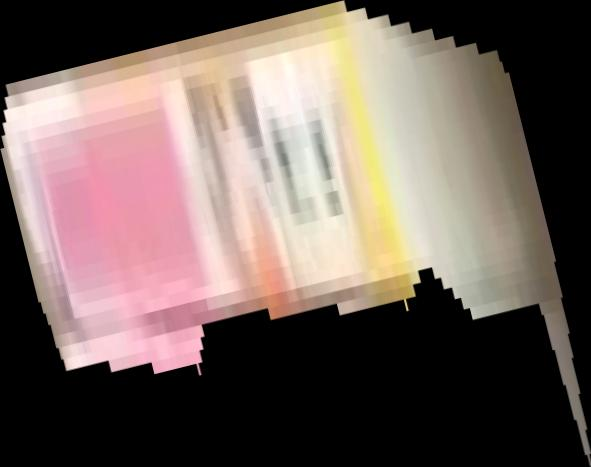flat: (1, 1, 591, 467)
